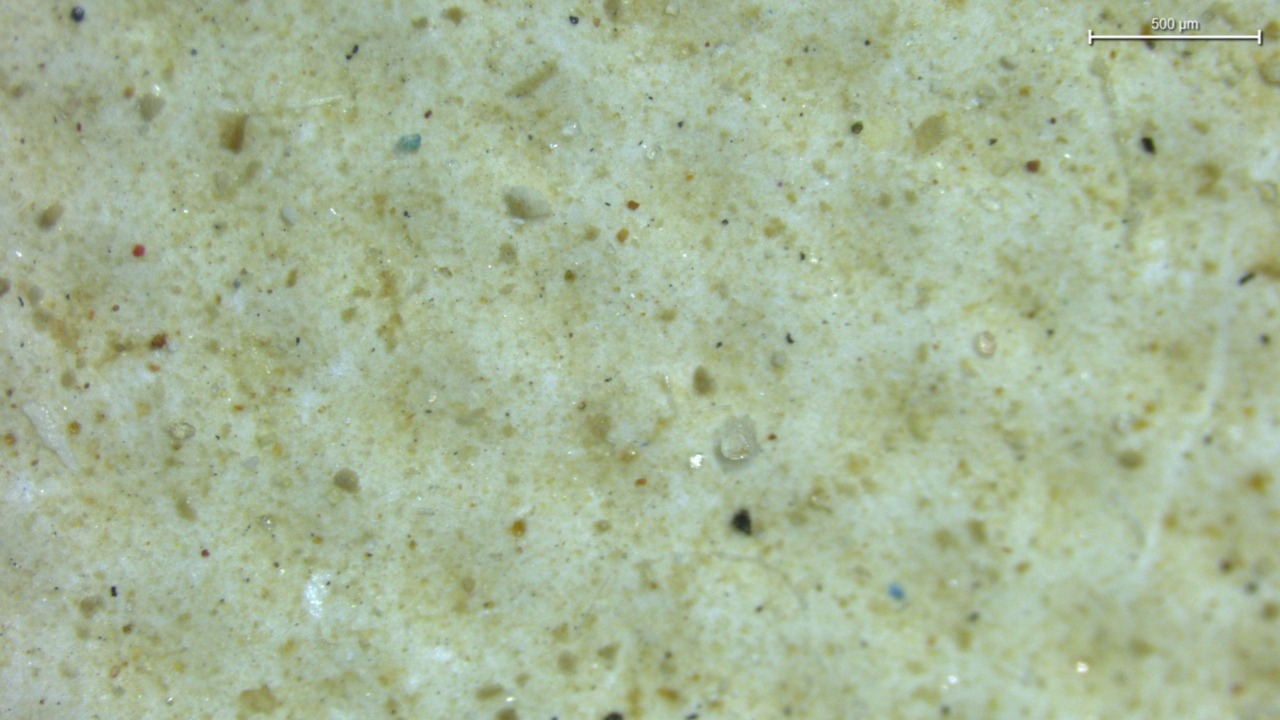microplastic_fragment: (717, 417, 757, 461), (503, 187, 551, 221)
